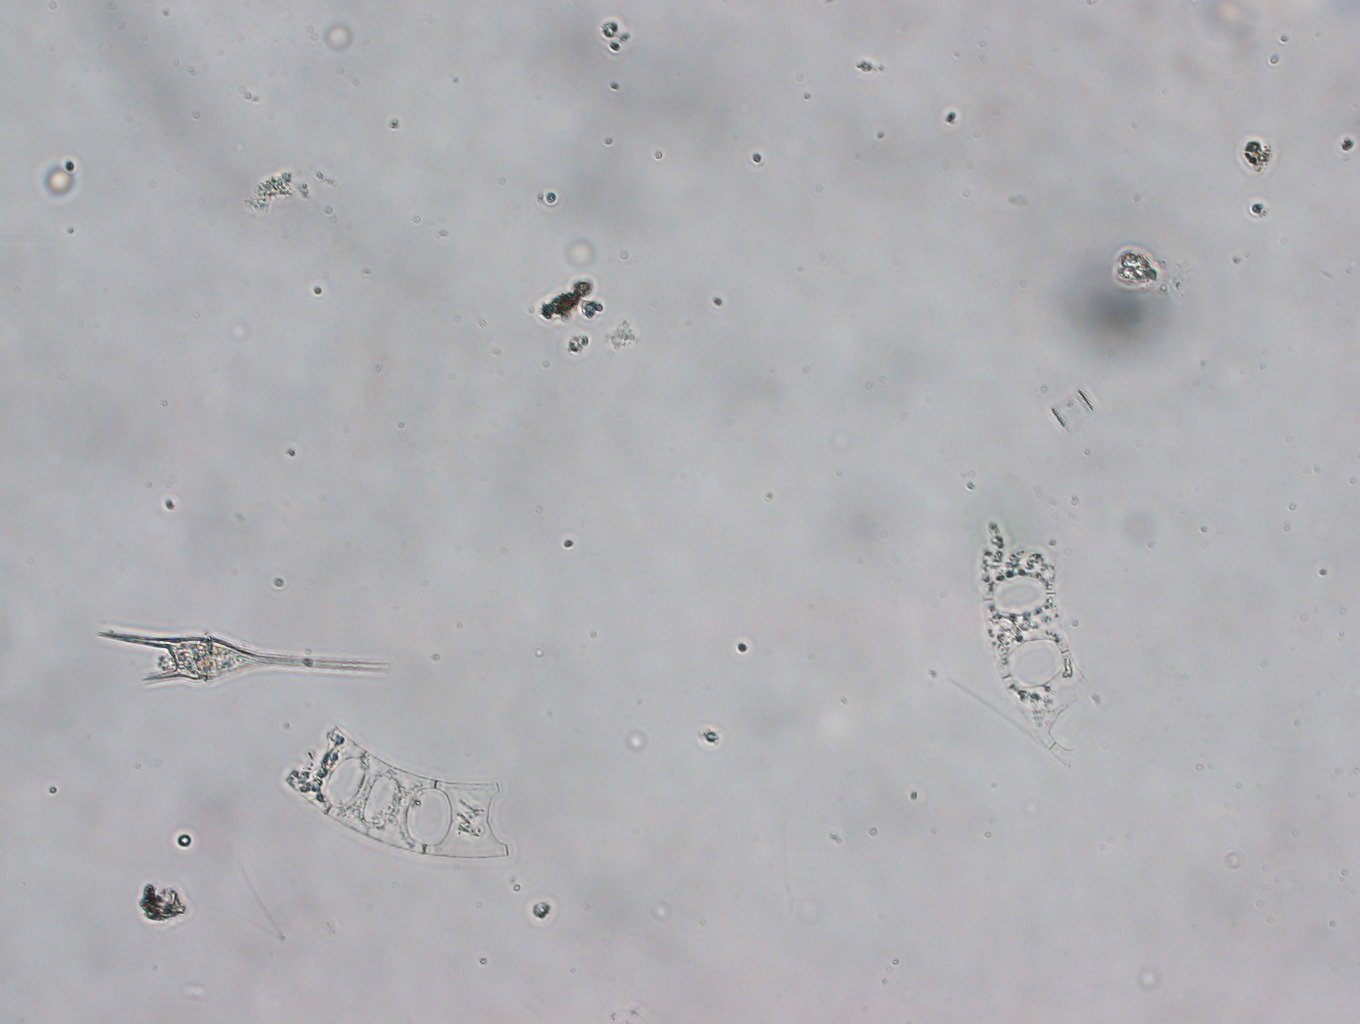ceratium furca: (101, 630, 392, 683)
eucampia: (980, 518, 1110, 767), (282, 723, 510, 861)
